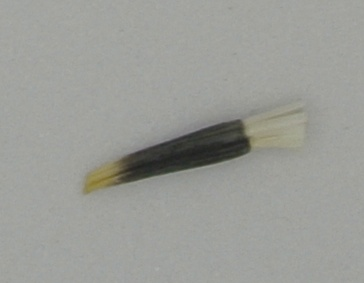เมล็ดดีติดกัน: (79, 97, 310, 197)
